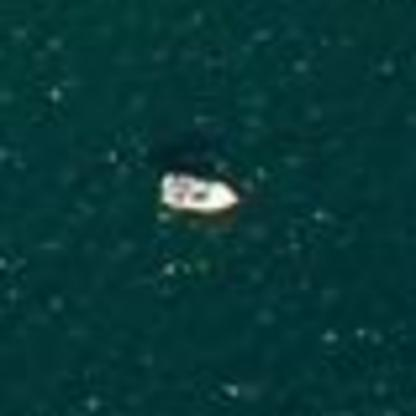ship: (151, 168, 244, 218)
